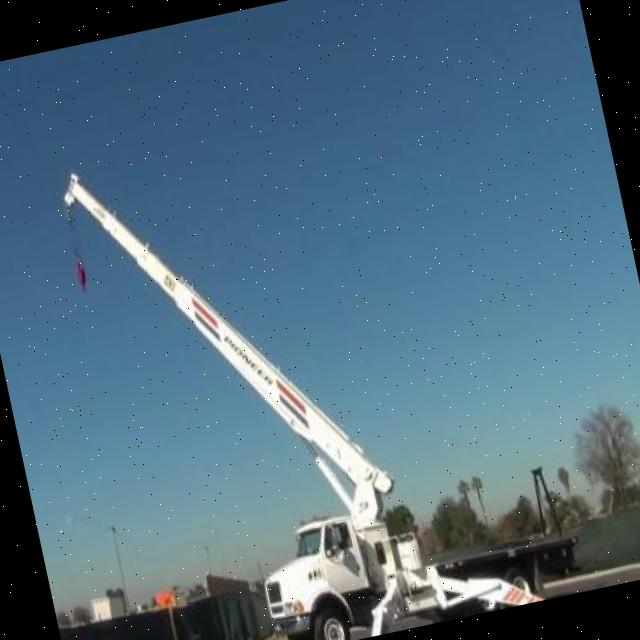Mobile Crane: (41, 84, 581, 640)
